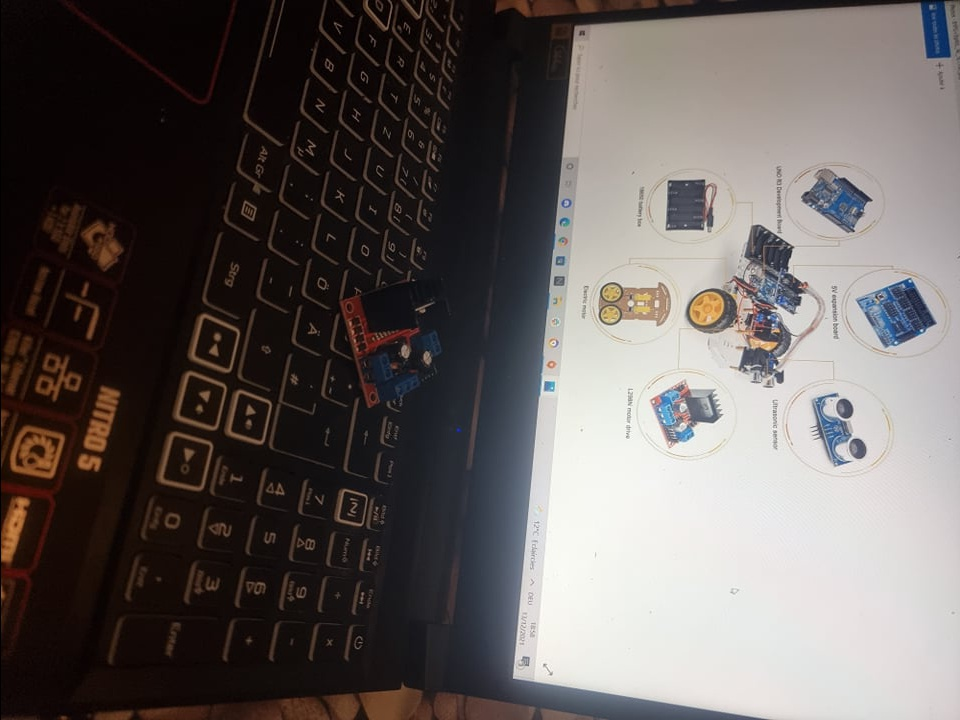5V EXPANSION: (854, 275, 938, 352), (775, 268, 807, 314)
BATTERY BOX: (744, 223, 796, 267), (665, 177, 705, 229)
MOTOR: (336, 275, 456, 406), (647, 380, 722, 447), (752, 310, 783, 342)
SENSOR: (814, 393, 868, 467), (744, 370, 778, 391)
UNO R3: (799, 167, 871, 232), (746, 263, 776, 307)
